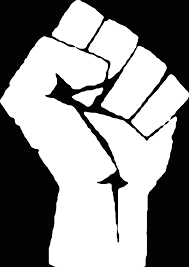fist: (9, 12, 183, 193)
